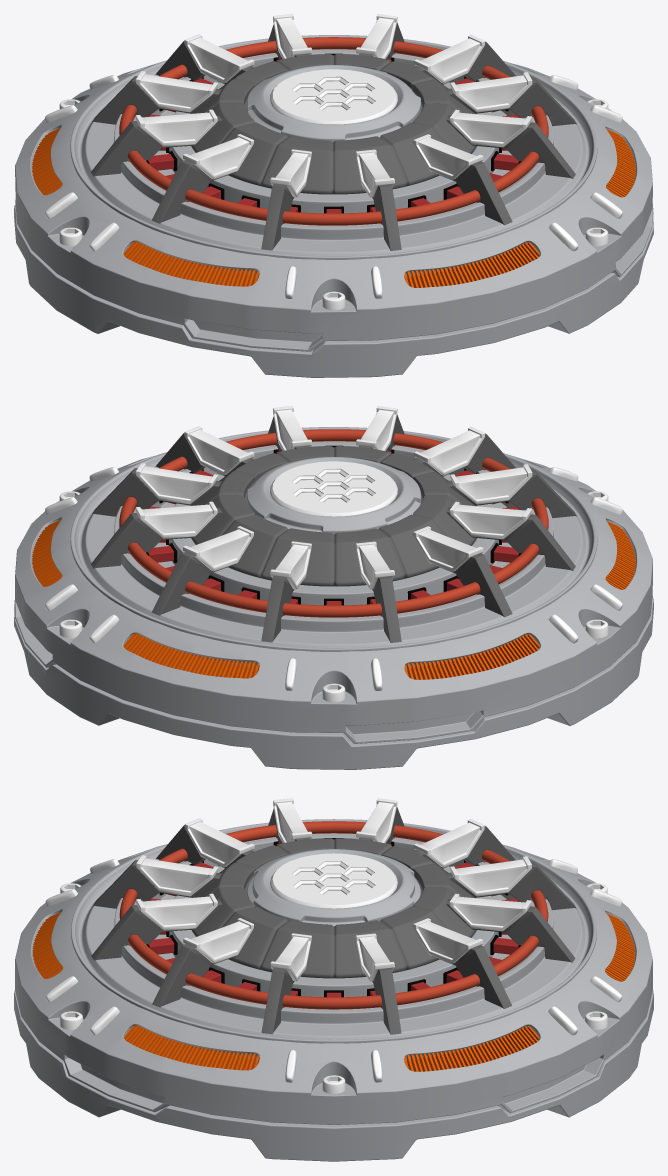
Rendered from scy-fi_land_mine.glb.
The picture shows the model from 3 angles, top to bottom: view 1: azimuth 30°, elevation 25°; view 2: azimuth 150°, elevation 25°; view 3: azimuth 270°, elevation 25°; orthographic projection.
Visible parts, largest first — view 1: Main_Shape_Middle, Main_Shape_Middle_Center, Arms_Top_Piece, Main_Shape_Down, Main_Shape_Center_Top, Arms, Tube, Main_Shape_Middle_Inner_Placs, Main_Shape_Top, Main_Shape_Top_Upper, Bolt_side_detail, Middle_Inner_Rectangular_Component (+2 smaller); view 2: Main_Shape_Middle, Main_Shape_Middle_Center, Arms_Top_Piece, Main_Shape_Down, Main_Shape_Center_Top, Arms, Tube, Main_Shape_Middle_Inner_Placs, Main_Shape_Top, Main_Shape_Top_Upper, Bolt_side_detail, Middle_Inner_Rectangular_Component (+2 smaller); view 3: Main_Shape_Middle, Main_Shape_Middle_Center, Arms_Top_Piece, Main_Shape_Down, Main_Shape_Center_Top, Arms, Tube, Main_Shape_Middle_Inner_Placs, Main_Shape_Top, Main_Shape_Top_Upper, Bolt_side_detail, Middle_Inner_Rectangular_Component (+2 smaller).
Part boxes in pixels (box(x1,y1,x2,y2)): Main_Shape_Middle: box(15, 61, 652, 351); Main_Shape_Middle_Center: box(70, 35, 597, 259); Arms_Top_Piece: box(135, 14, 532, 197); Main_Shape_Down: box(14, 204, 653, 377); Main_Shape_Center_Top: box(191, 54, 476, 194); Arms: box(91, 22, 576, 250); Tube: box(119, 37, 548, 225); Main_Shape_Middle_Inner_Placs: box(32, 128, 635, 287); Main_Shape_Top: box(270, 69, 397, 124); Main_Shape_Top_Upper: box(247, 65, 420, 142); Bolt_side_detail: box(45, 75, 622, 298); Middle_Inner_Rectangular_Component: box(148, 59, 520, 213); Main_Shape_Middle: box(15, 452, 652, 743); Main_Shape_Middle_Center: box(70, 427, 597, 651); Arms_Top_Piece: box(135, 406, 532, 589); Main_Shape_Down: box(14, 597, 653, 769); Main_Shape_Center_Top: box(191, 446, 476, 586); Arms: box(91, 414, 576, 642); Tube: box(119, 429, 548, 617); Main_Shape_Middle_Inner_Placs: box(32, 520, 635, 679); Main_Shape_Top: box(270, 461, 397, 516); Main_Shape_Top_Upper: box(247, 457, 420, 534); Bolt_side_detail: box(45, 467, 622, 690); Middle_Inner_Rectangular_Component: box(148, 451, 520, 605); Main_Shape_Middle: box(15, 844, 652, 1124); Main_Shape_Middle_Center: box(71, 819, 596, 1043); Arms_Top_Piece: box(136, 798, 531, 981); Main_Shape_Down: box(14, 990, 653, 1161); Main_Shape_Center_Top: box(191, 838, 476, 978); Arms: box(91, 807, 576, 1034); Tube: box(119, 821, 548, 1009); Main_Shape_Middle_Inner_Placs: box(32, 912, 635, 1071); Main_Shape_Top: box(270, 853, 397, 908); Main_Shape_Top_Upper: box(247, 849, 420, 926); Bolt_side_detail: box(45, 859, 622, 1082); Middle_Inner_Rectangular_Component: box(148, 843, 519, 997).
Bounding box in the file's own units: 4.36 × 1.11 × 4.36.
